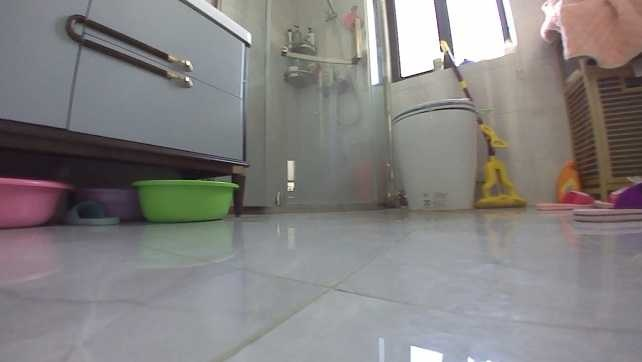slipper: (570, 180, 639, 220)
toilet: (388, 97, 480, 214)
